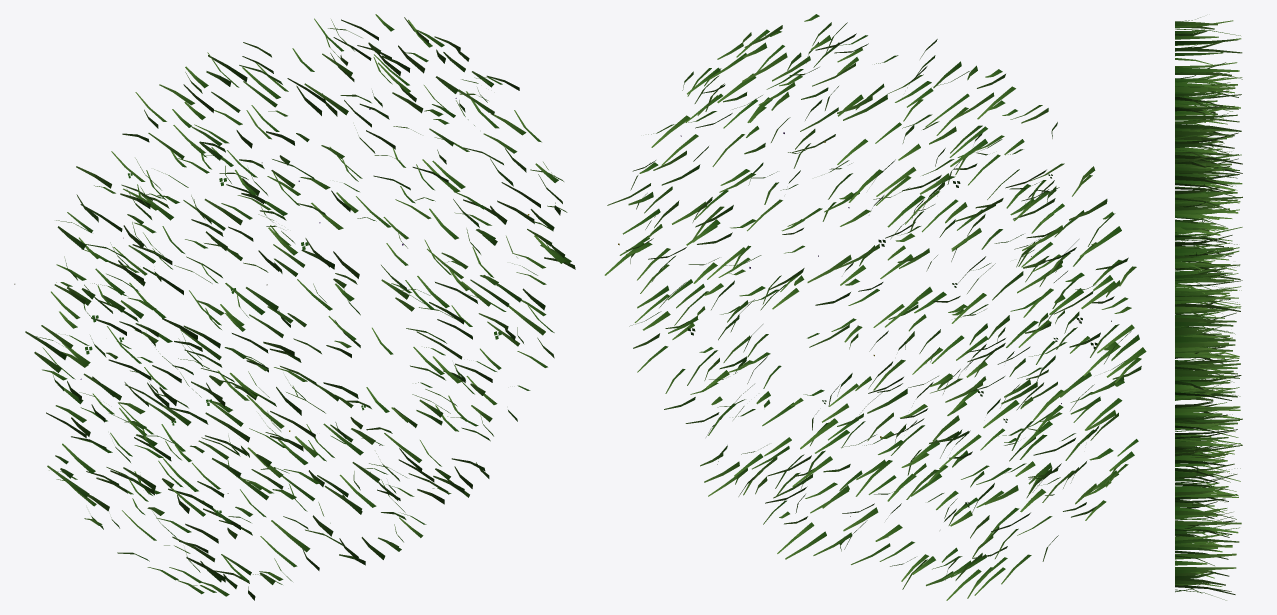
File: Grass_Tile_Waterside.glb
3 views of the same model, side by side, from view 1: azimuth 30°, elevation 25°; view 2: azimuth 150°, elevation 25°; view 3: azimuth 270°, elevation 25° (orthographic). The views are drawn at different scales.
Parts seen in each view (by area): view 1: Grass_Tile_Waterside; view 2: Grass_Tile_Waterside; view 3: Grass_Tile_Waterside.
Part boxes in pixels (x1,y1,x2,y2): Grass_Tile_Waterside: (14, 14, 575, 600); Grass_Tile_Waterside: (604, 14, 1146, 600); Grass_Tile_Waterside: (1175, 17, 1242, 600).
Size of the model in its own units: 1.77 by 1.76 by 0.2746.
